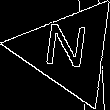N_S: (44, 23, 93, 79)
